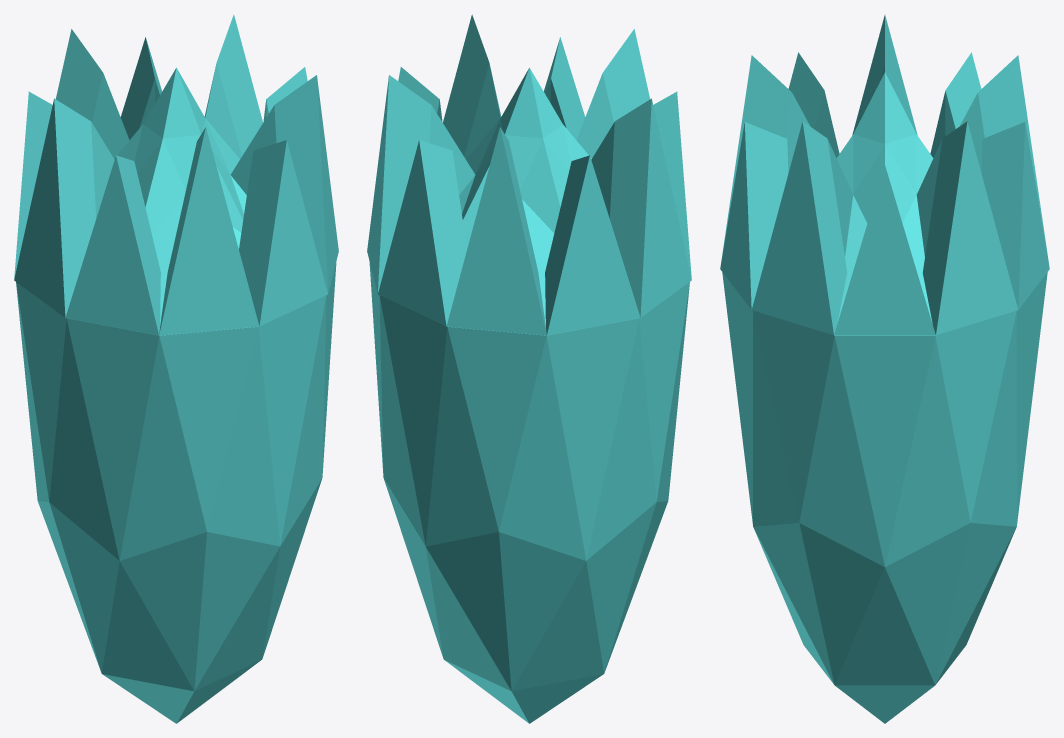
Rendered from cristal.fbx.
3 views of the same model, side by side, from view 1: azimuth 30°, elevation 25°; view 2: azimuth 150°, elevation 25°; view 3: azimuth 270°, elevation 25° (orthographic).
Parts seen in each view (by area): view 1: Icosphere; view 2: Icosphere; view 3: Icosphere.
Part boxes in pixels (x1,y1,x2,y2): Icosphere: [14, 14, 338, 723]; Icosphere: [367, 14, 691, 723]; Icosphere: [720, 15, 1049, 723].
Bounding box in the file's own units: 64.62 × 148 × 67.94.
